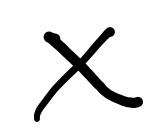mult: (33, 27, 144, 122)
